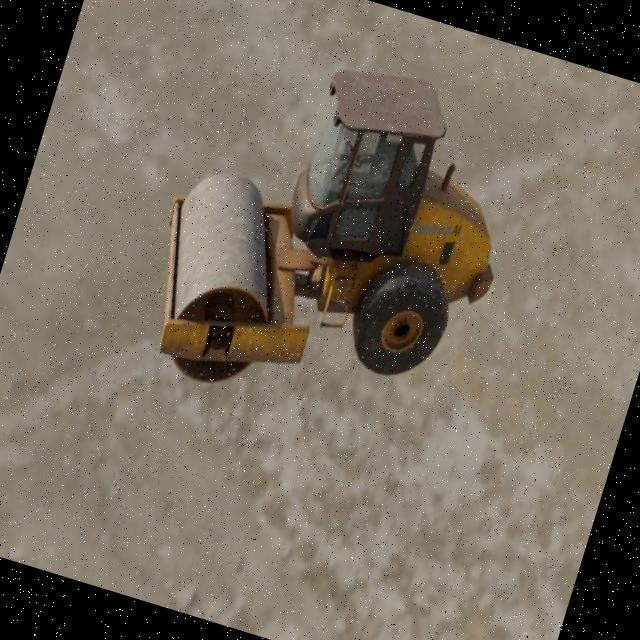Roller: (124, 18, 543, 456)
